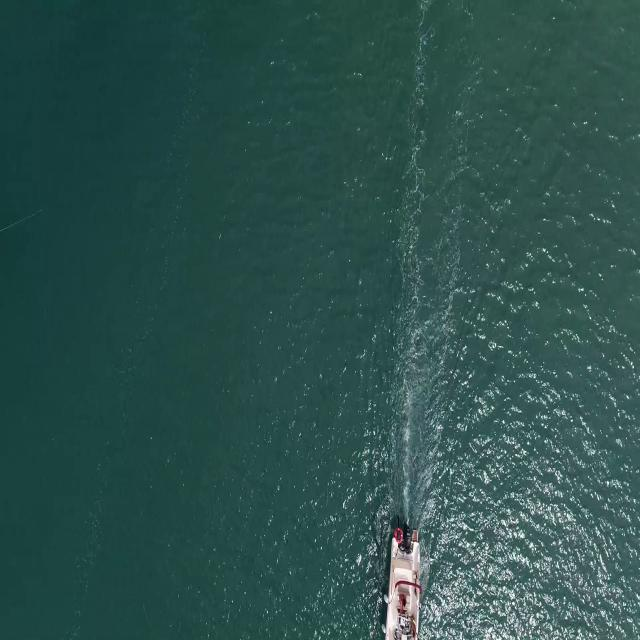boat: (383, 540, 424, 640)
life_buoy: (392, 523, 404, 543)
person: (408, 615, 419, 638), (398, 592, 408, 616)
